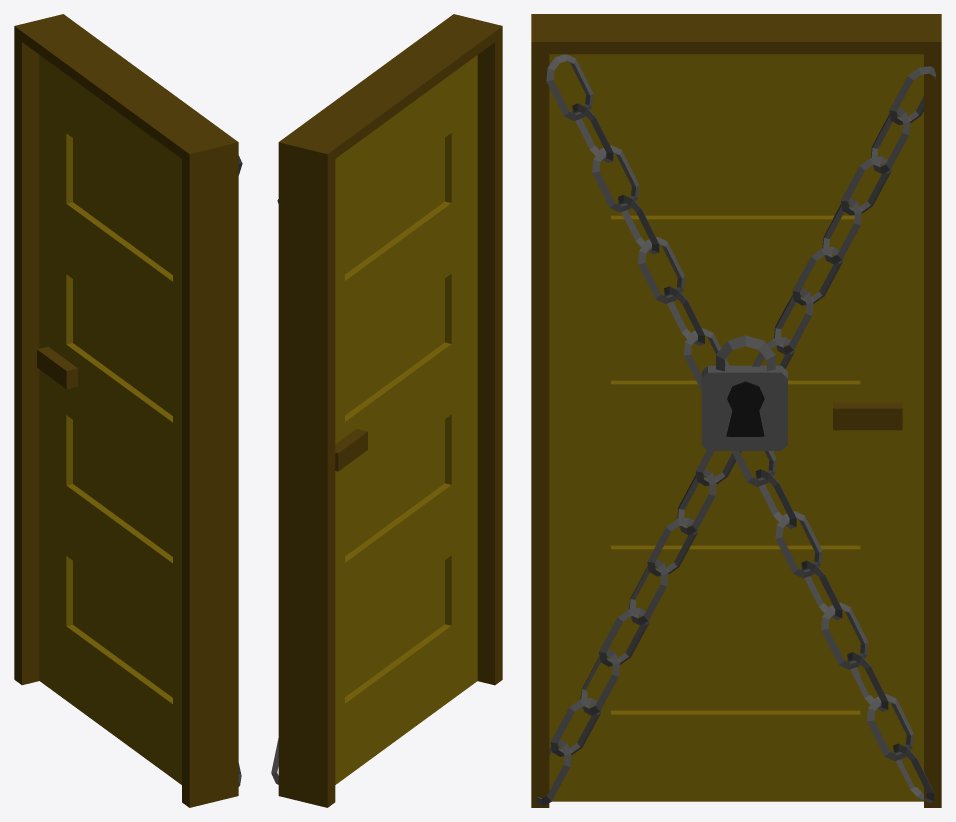
Rendered from doorWithLockAndKey.fbx.
3 views of the same model, side by side, from view 1: azimuth 30°, elevation 25°; view 2: azimuth 150°, elevation 25°; view 3: azimuth 270°, elevation 25° (orthographic). The views are drawn at different scales.
Visible parts, largest first — view 1: Door, Frame; view 2: Door, Frame; view 3: Door, Frame, Chain, Lock.
Boxes of the visible parts, x1,y1,x2,y2 form: Door: [37, 55, 181, 784]; Frame: [14, 14, 238, 807]; Door: [335, 55, 477, 784]; Frame: [278, 14, 502, 807]; Door: [549, 54, 923, 801]; Frame: [531, 14, 941, 807]; Chain: [536, 54, 935, 805]; Lock: [701, 335, 787, 450].
Size of the model in its own units: 45.52 by 404 by 196.
